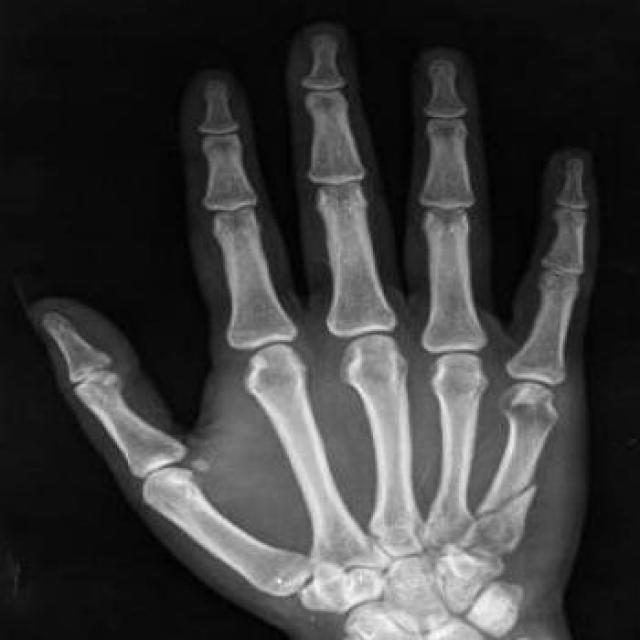Fracture: (471, 470, 548, 528)
